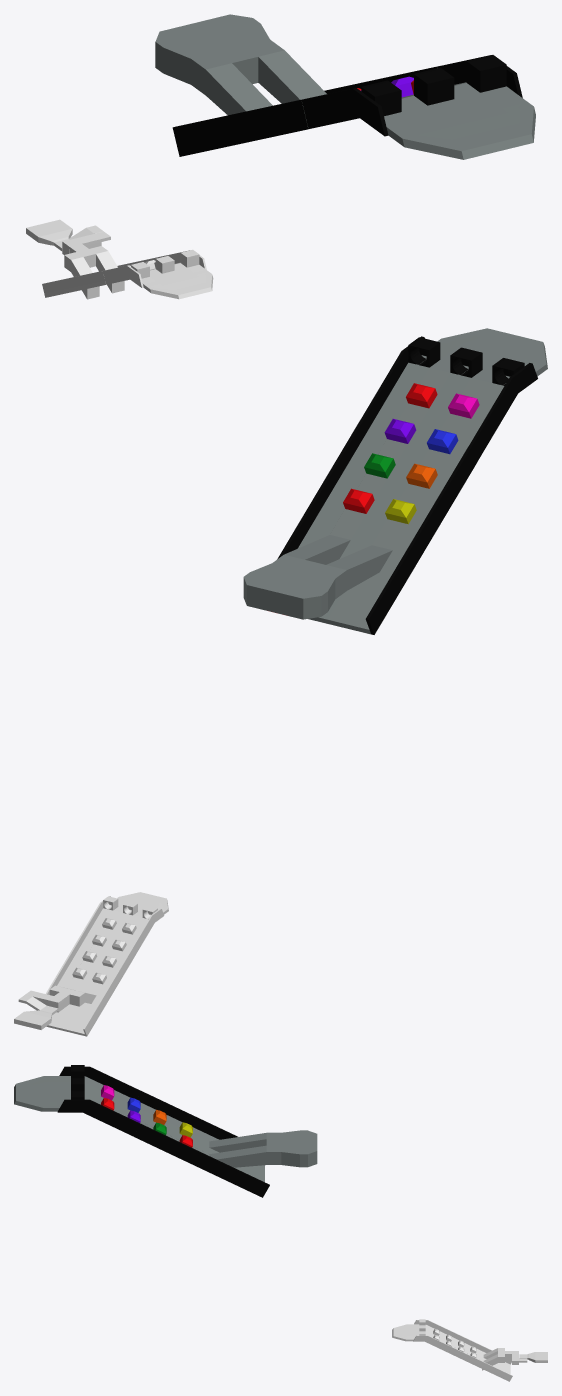
File: spawn_and_ball_ramp_only.fbx
The picture shows the model from 3 angles, top to bottom: view 1: azimuth 30°, elevation 25°; view 2: azimuth 150°, elevation 25°; view 3: azimuth 270°, elevation 25°; orthographic projection. The views are drawn at different scales.
Visible parts, largest first — view 1: Ball_Ramp, Ball_Ramp.001; view 2: Ball_Ramp, Ball_Ramp.001; view 3: Ball_Ramp, Ball_Ramp.001.
Boxes of the visible parts, x1,y1,x2,y2 form: Ball_Ramp: (155,14,535,159); Ball_Ramp.001: (26,219,213,299); Ball_Ramp: (243,328,547,634); Ball_Ramp.001: (14,892,168,1036); Ball_Ramp: (14,1065,317,1197); Ball_Ramp.001: (392,1319,547,1381).
Size of the model in its own units: 3102 by 9000 by 15877.
